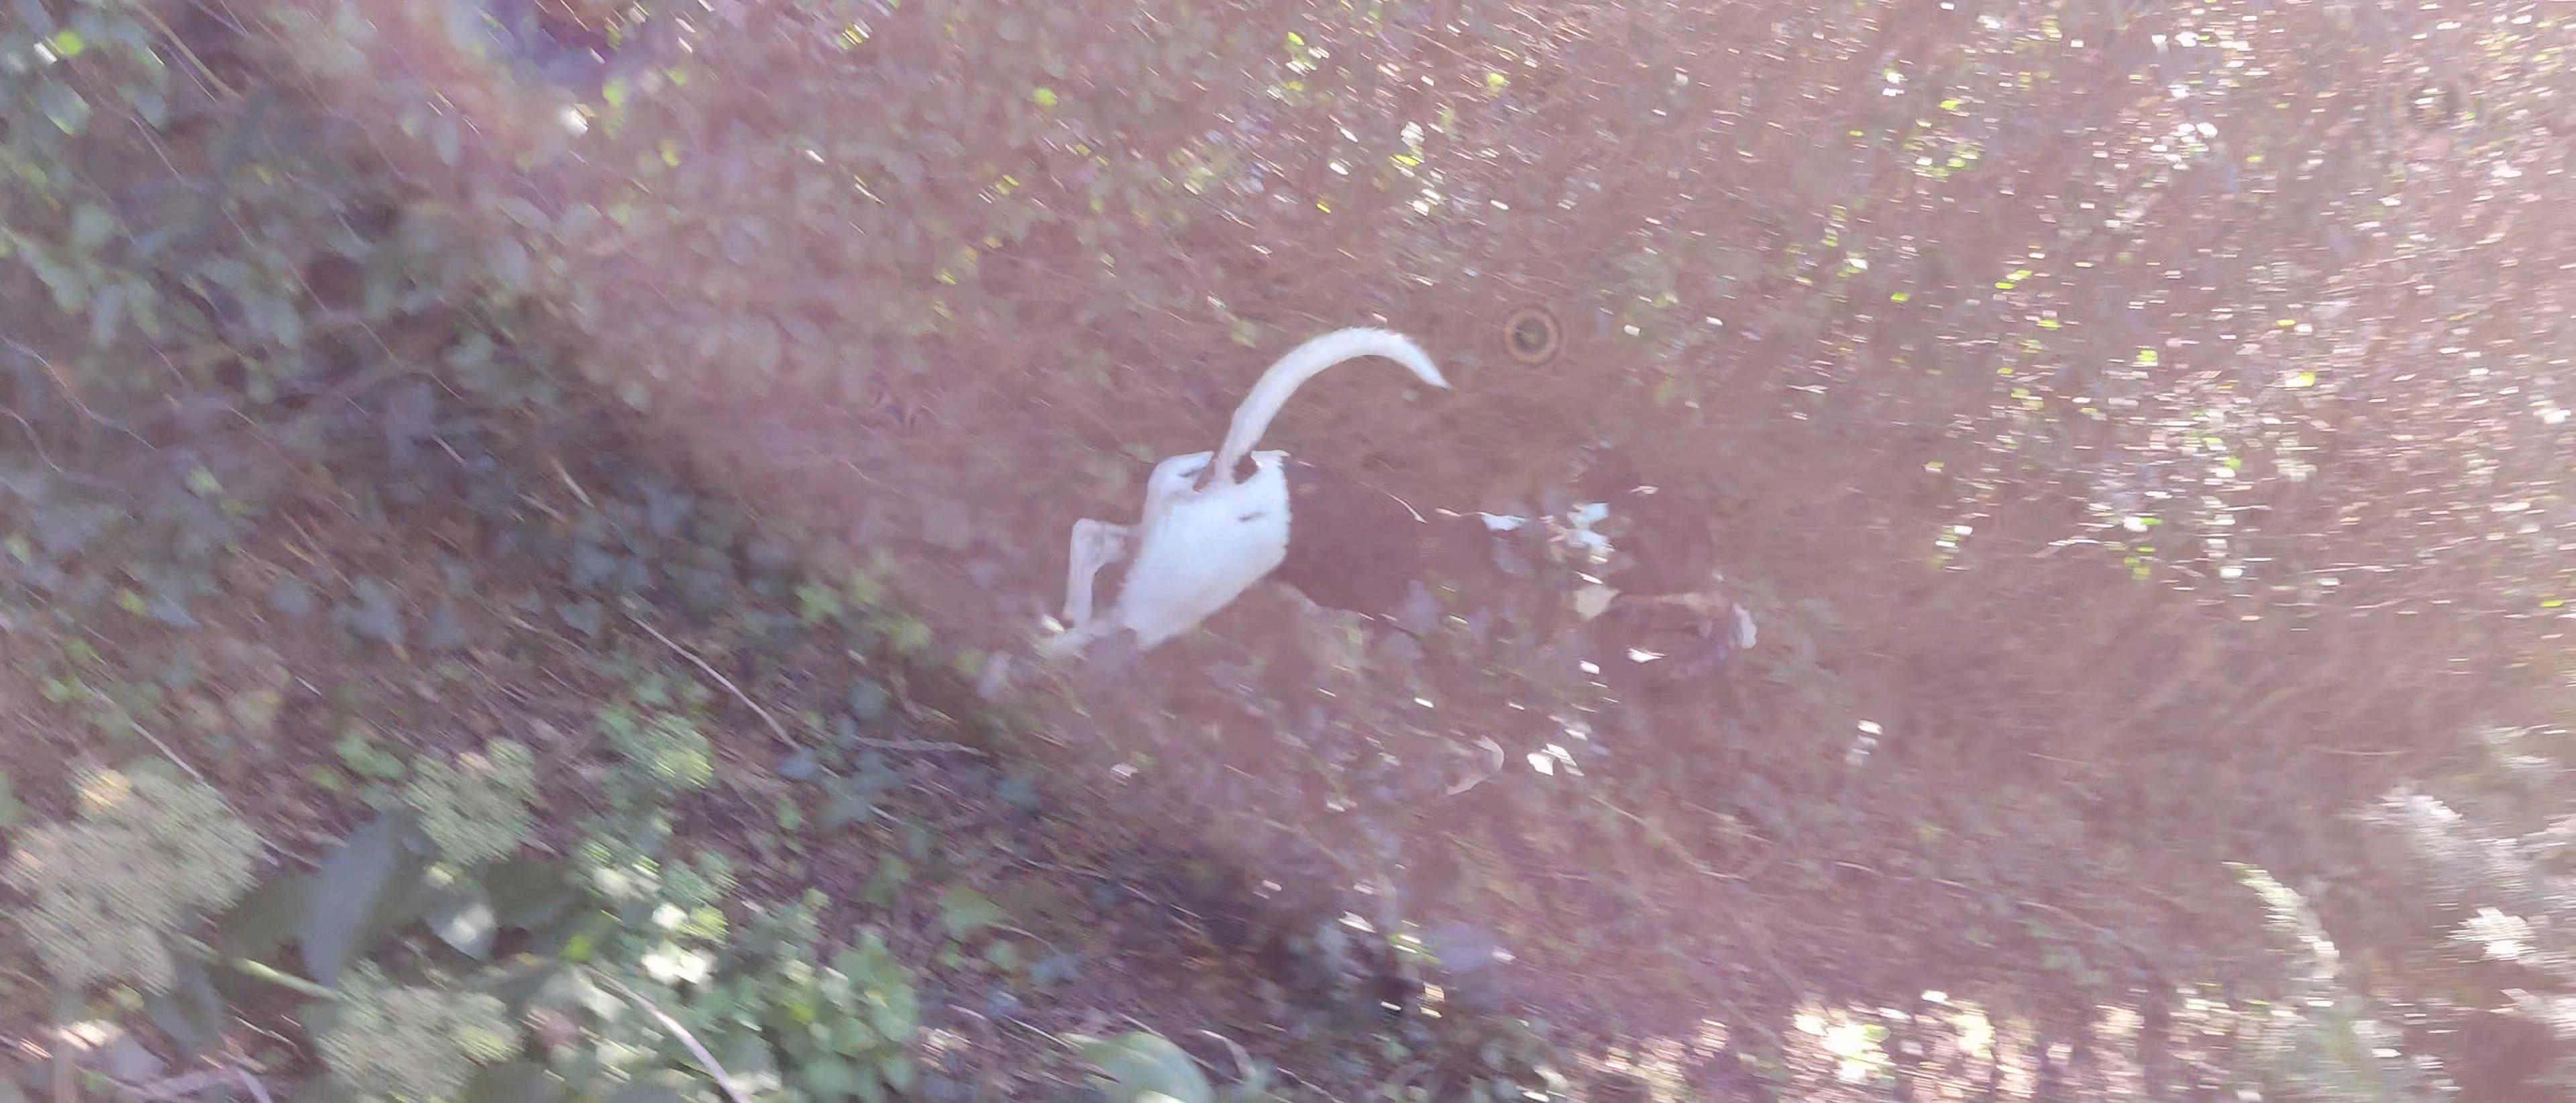Dog: (1027, 314, 1735, 694)
